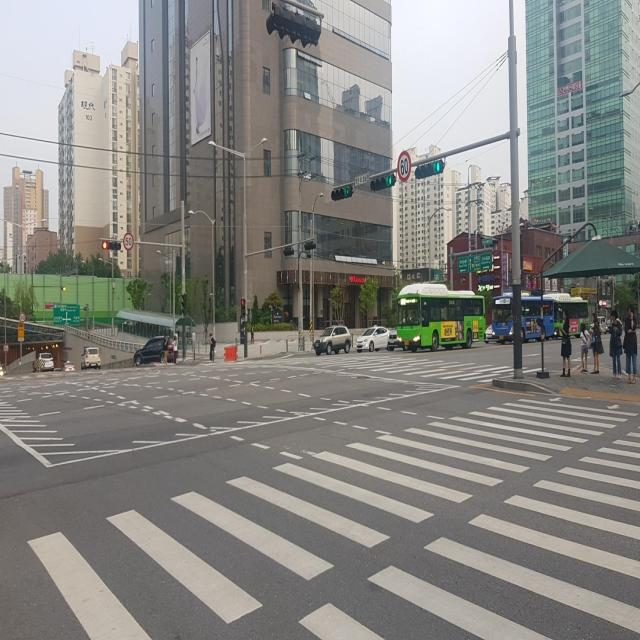빨간불: (240, 298, 246, 319)
횡단보도: (26, 388, 640, 640), (263, 348, 546, 384)
